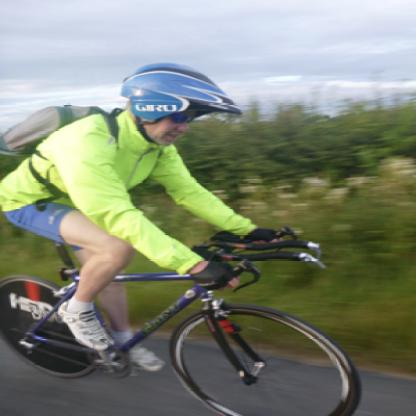With Helmet: (123, 55, 244, 150)
